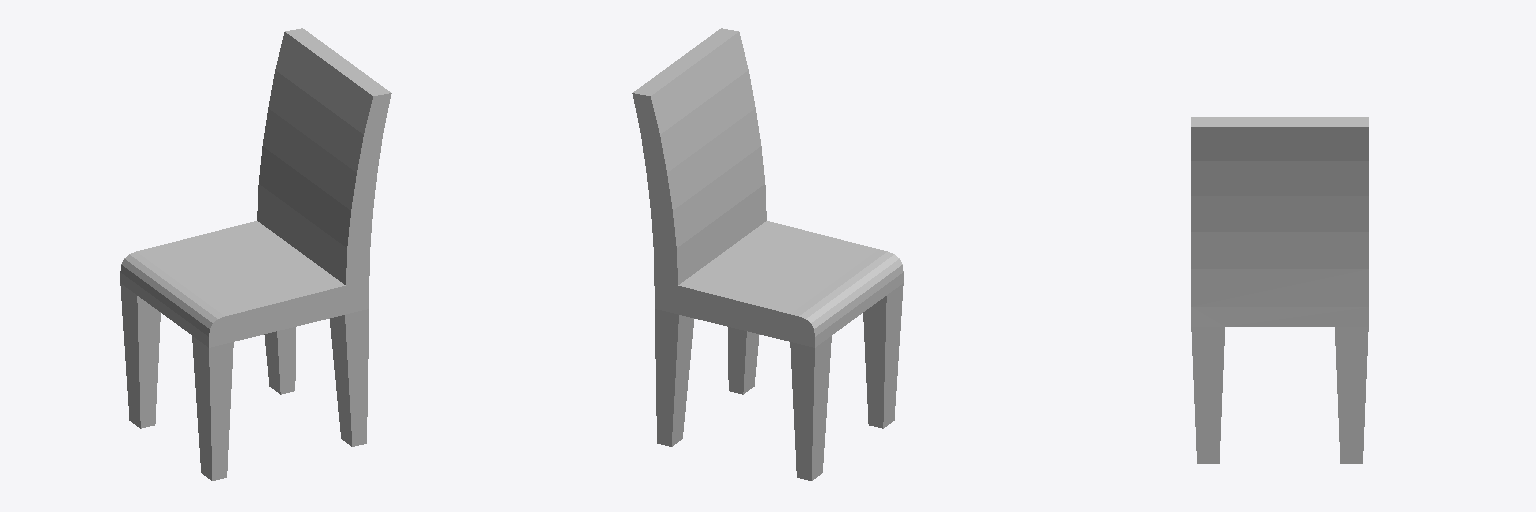
The model's file is Chair_01.obj.
3 renders of one model, left to right at view 1: azimuth 30°, elevation 25°; view 2: azimuth 150°, elevation 25°; view 3: azimuth 270°, elevation 25°, orthographic.
Parts seen in each view (by area): view 1: Chair_01; view 2: Chair_01; view 3: Chair_01.
Boxes of the visible parts, x1,y1,x2,y2 form: Chair_01: [120, 28, 391, 480]; Chair_01: [632, 28, 903, 480]; Chair_01: [1191, 117, 1368, 463].
Size of the model in its own units: 0.712 by 1.3 by 0.5989.